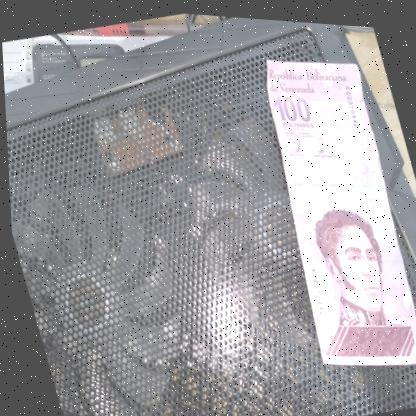one_hundred-front-vef: (237, 31, 416, 381)
